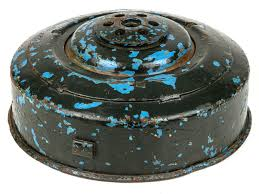car: (0, 1, 256, 188)
